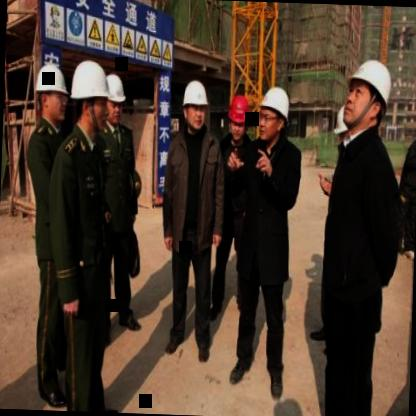helmet: (341, 50, 397, 136), (70, 54, 108, 142), (32, 58, 70, 126), (255, 83, 293, 143), (178, 74, 212, 137), (100, 68, 128, 126), (226, 94, 255, 141)
